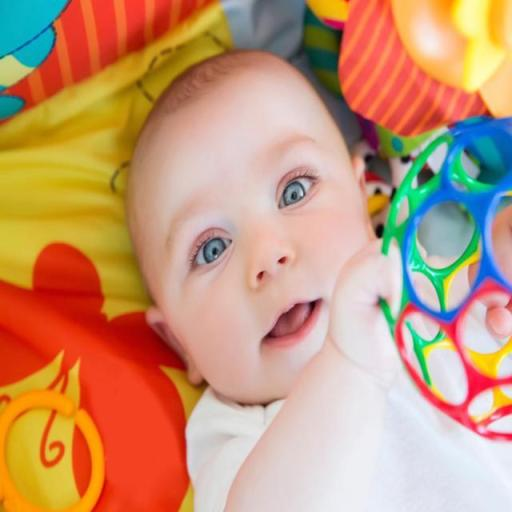baby: (130, 48, 511, 511)
